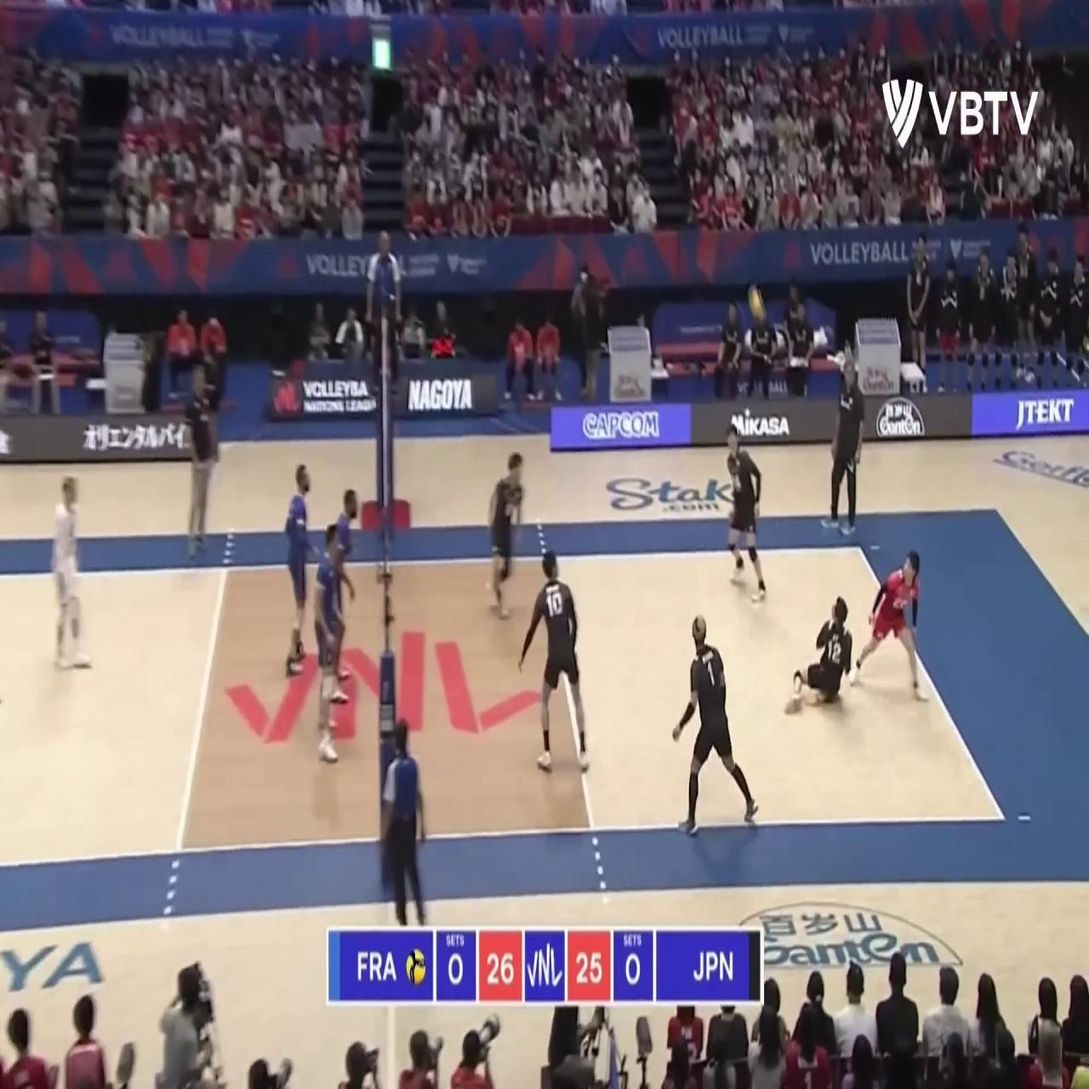ball: (747, 284, 767, 322)
